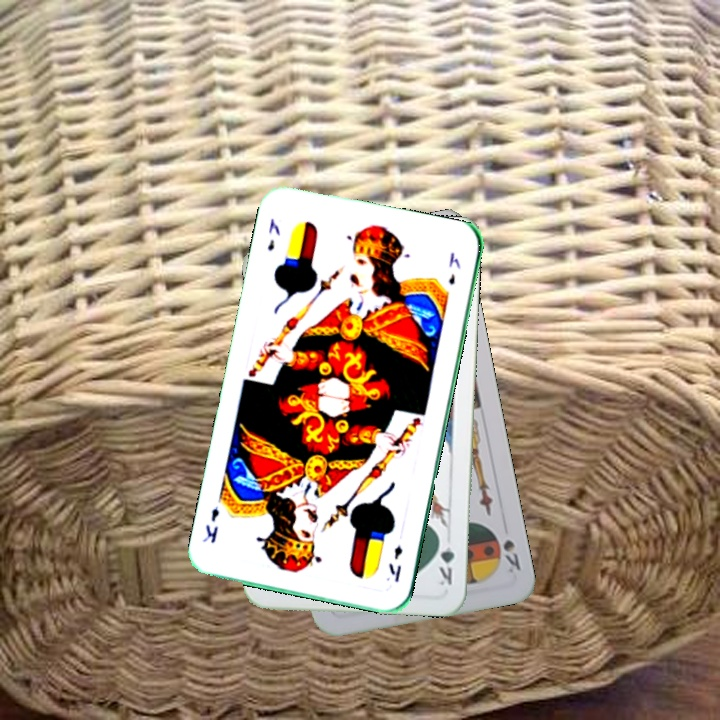EK: (384, 542, 405, 585), (263, 214, 283, 254)
GK: (434, 531, 457, 588)
SK: (499, 535, 523, 576)
